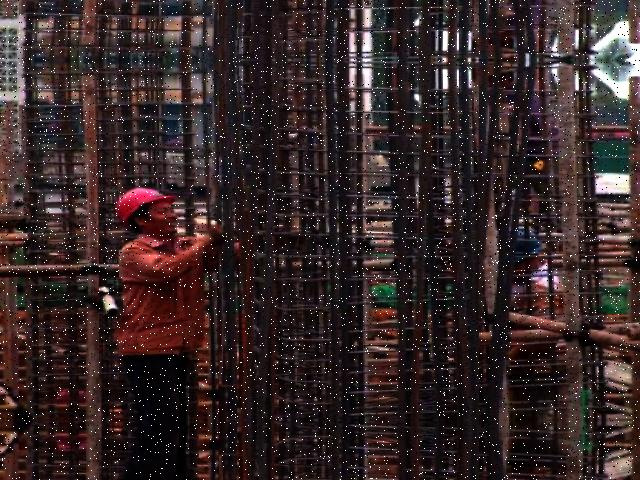Helmet: (112, 183, 184, 236)
